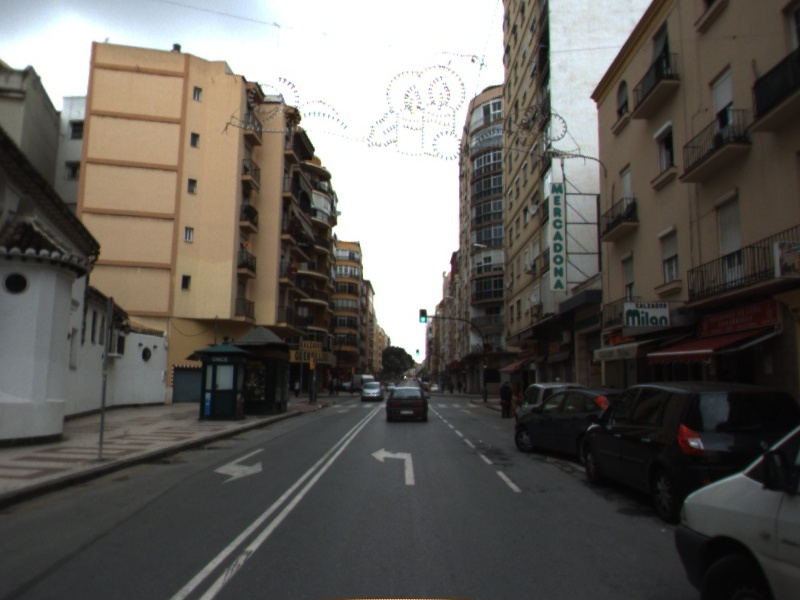LEFT: (370, 446, 416, 487)
